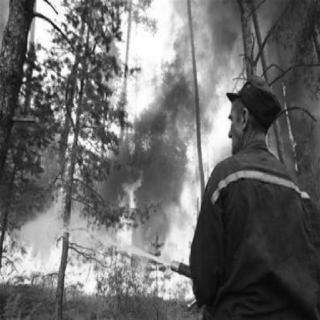Fire: (2, 170, 166, 296), (280, 79, 306, 175)
